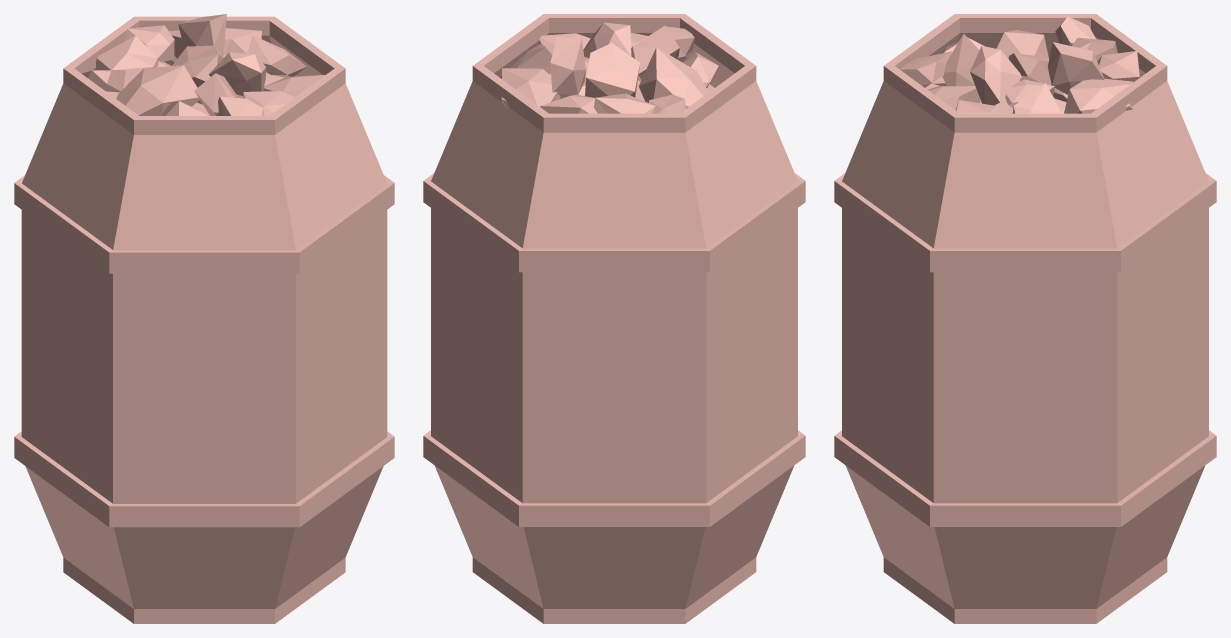
The model's file is Mega_Asset_s_Pack_Cylinder_002.FBX.
3 views of the same model, side by side, from view 1: azimuth 30°, elevation 25°; view 2: azimuth 150°, elevation 25°; view 3: azimuth 270°, elevation 25° (orthographic).
Parts seen in each view (by area): view 1: Mega_Asset_s_Pack_Cylinder_002; view 2: Mega_Asset_s_Pack_Cylinder_002; view 3: Mega_Asset_s_Pack_Cylinder_002.
Part boxes in pixels (left/top/right/bottom): Mega_Asset_s_Pack_Cylinder_002: left=14, top=14, right=394, bottom=623; Mega_Asset_s_Pack_Cylinder_002: left=423, top=14, right=805, bottom=623; Mega_Asset_s_Pack_Cylinder_002: left=834, top=14, right=1216, bottom=623.
Size of what is drawn, in the model's own units: 108 by 124 by 193.
